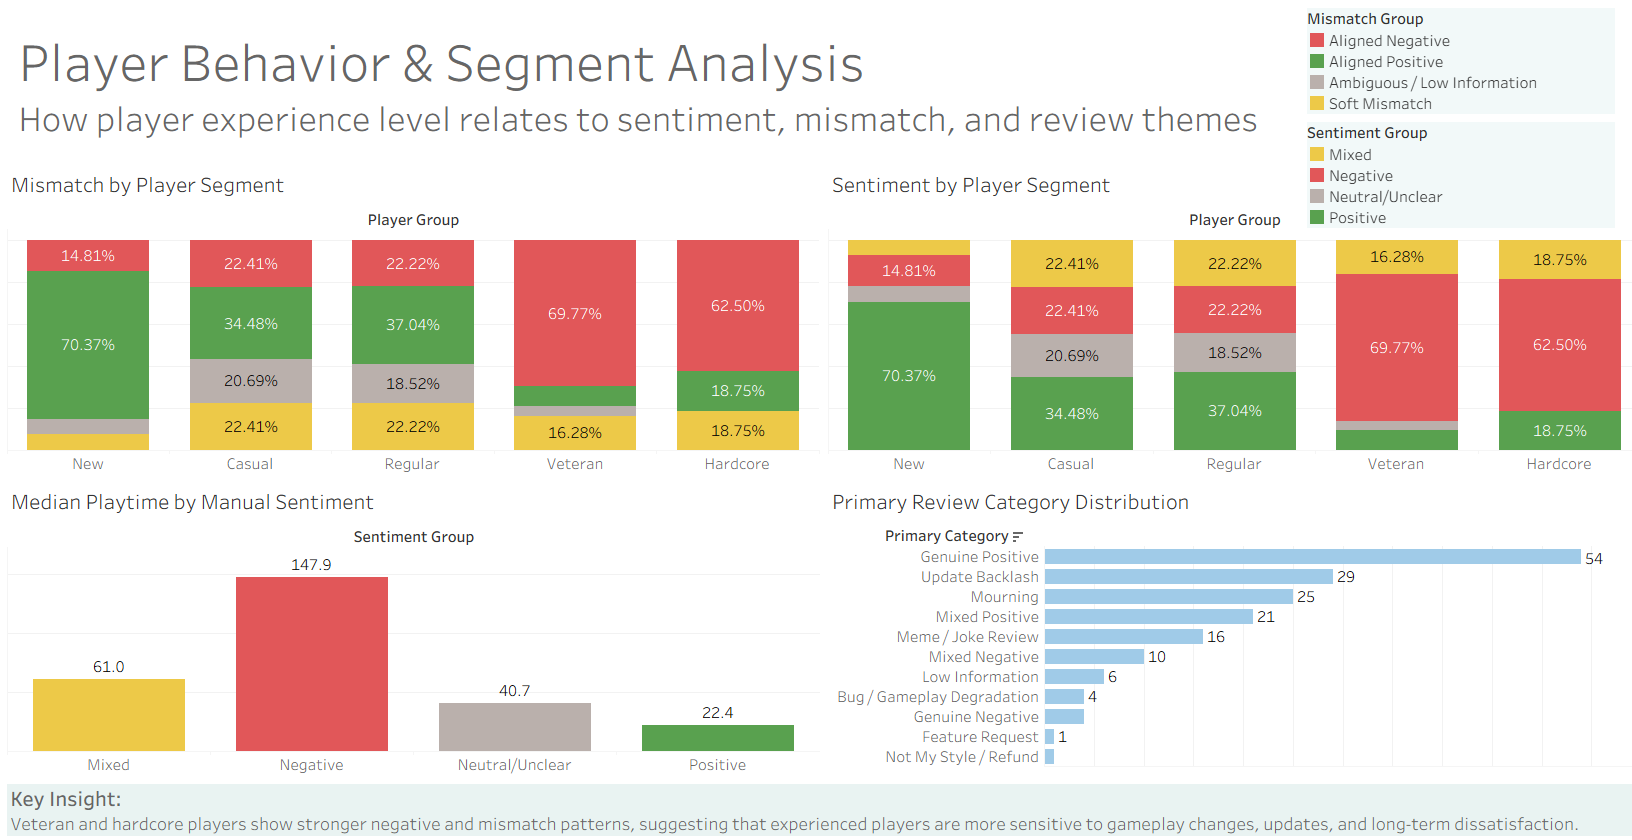

What the dashboard file says about the page in this screenshot:
{"tool":"tableau","page":{"name":"02 Player Behavior","canvas":[1000,1000],"units":"permille","ordinal":1},"visuals":[{"type":"legend","title":"Chart Player Segment vs Mismatch","param":"[federated.1x5f0wu08nq7uu108kq3m199u6nf].[none:mismatch_group:nk]","box":[789.4,8.2,190.7,134]},{"type":"text","box":[9.7,18.8,980.7,165.7]},{"type":"legend","title":"Chart Player Segment vs Sentiment","param":"[federated.1x5f0wu08nq7uu108kq3m199u6nf].[none:sentiment_group:nk]","box":[789.4,142.2,190.7,134]},{"type":"worksheet","title":"Chart Player Segment vs Mismatch","mark":"Automatic","cols":["player_group"],"box":[4.8,193.9,495.2,372.2]},{"type":"worksheet","title":"Chart Player Segment vs Sentiment","mark":"Automatic","cols":["player_group"],"box":[500,193.9,495.2,372.2]},{"type":"worksheet","title":"Chart Average Playtime by Sentiment","mark":"Automatic","rows":["playtime_hours"],"cols":["sentiment_group"],"box":[4.8,566.1,495.2,354]},{"type":"worksheet","title":"Chart Primary Category Distribution","mark":"Automatic","rows":["primary_category"],"cols":["review_key"],"box":[500,566.1,495.2,354]},{"type":"text","box":[4.8,920.1,990.3,70.5]}]}

Visuals, with their boxes on the dashboard's canvas, which has no fixed pixel size, in thousandths of its width and height (x1, y1, x2, y2). These are canvas units, not pixel positions in the 1632x840 screenshot, which may show the page scaled, cropped or inside an application window:
"Chart Player Segment vs Mismatch" legend: detection(789, 8, 980, 142)
text: detection(10, 19, 990, 184)
"Chart Player Segment vs Sentiment" legend: detection(789, 142, 980, 276)
"Chart Player Segment vs Mismatch" worksheet: detection(5, 194, 500, 566)
"Chart Player Segment vs Sentiment" worksheet: detection(500, 194, 995, 566)
"Chart Average Playtime by Sentiment" worksheet: detection(5, 566, 500, 920)
"Chart Primary Category Distribution" worksheet: detection(500, 566, 995, 920)
text: detection(5, 920, 995, 991)
